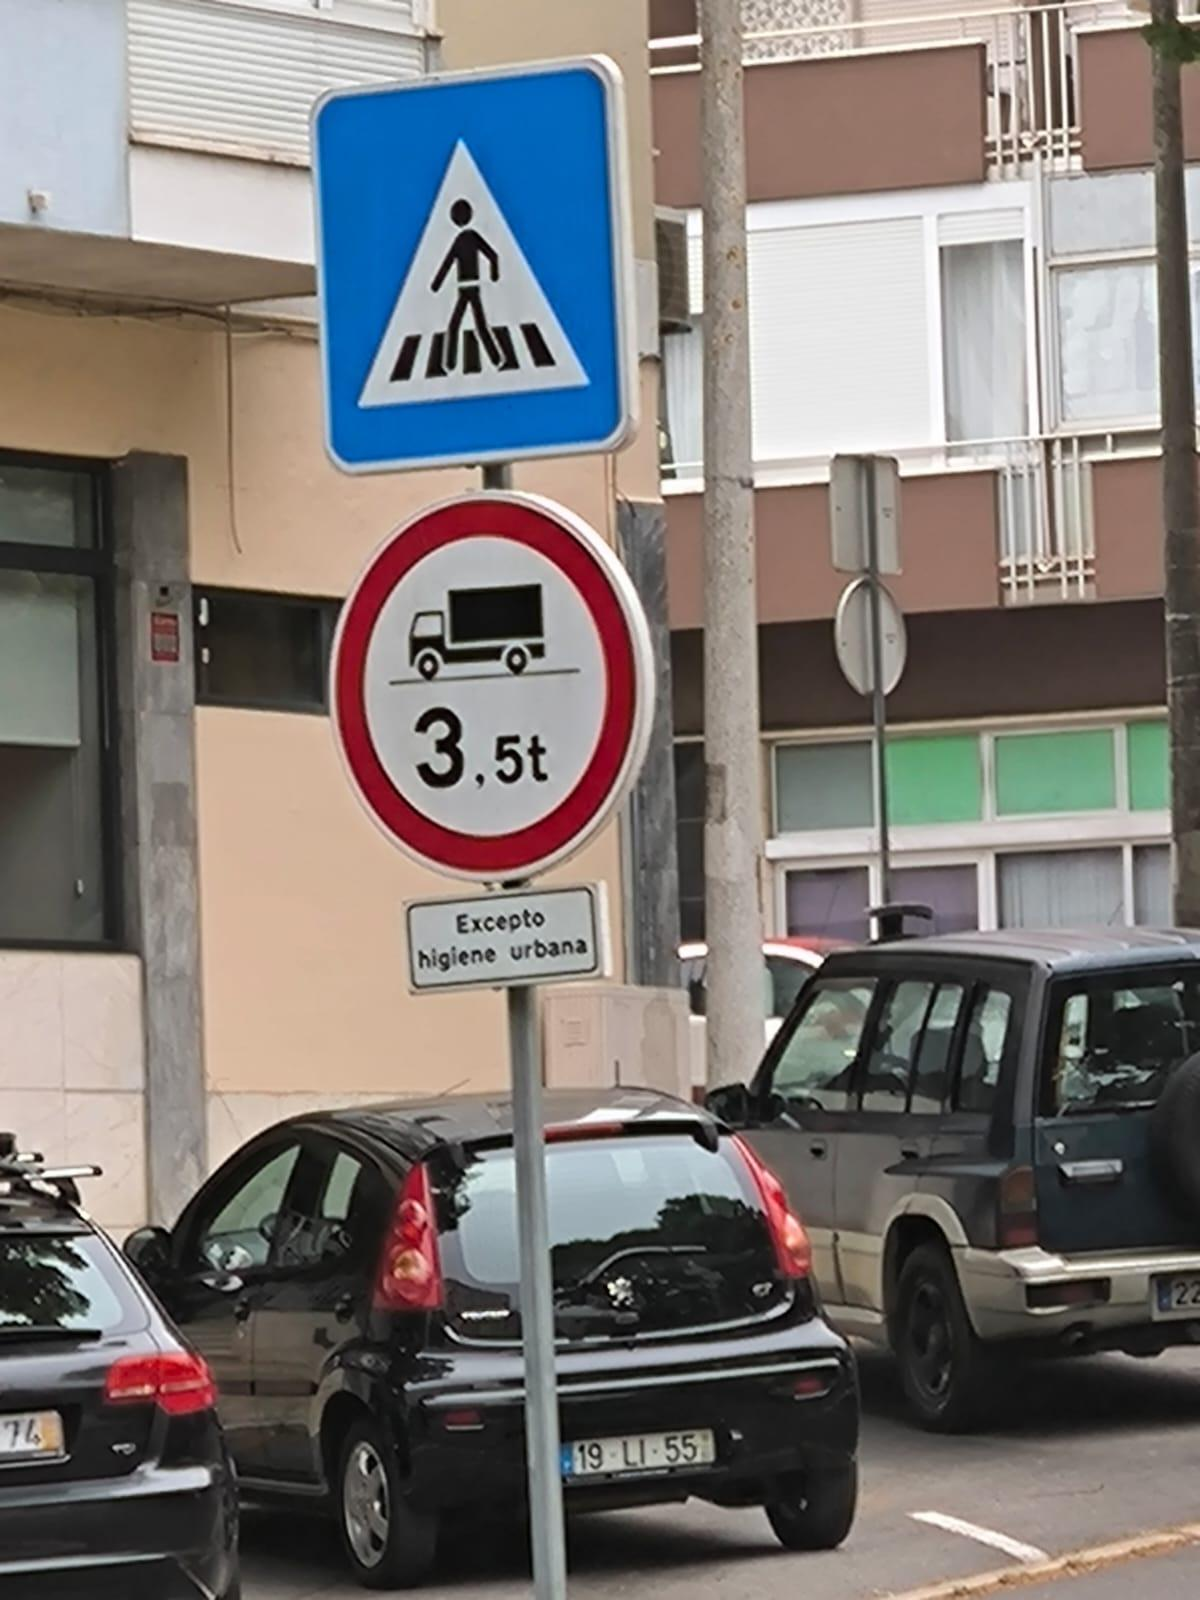Transito proibido a automoveis de mercadorias de peso total superior a ... t: (305, 490, 633, 889)
passagem para peoes: (297, 76, 638, 490)
